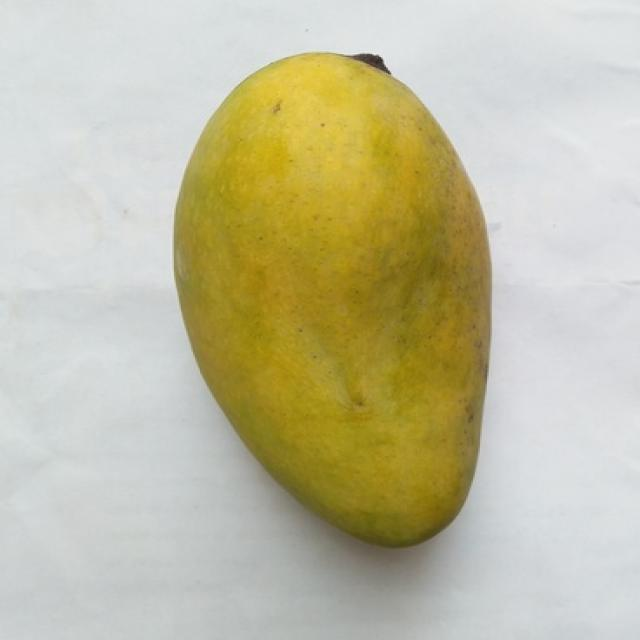Mango: (174, 53, 490, 544)
